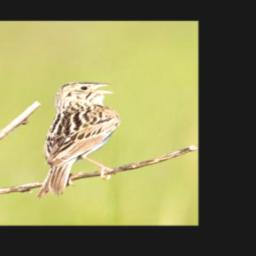Sparrow: (35, 80, 122, 200)
